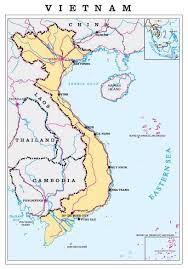Island: (131, 219, 180, 260), (129, 113, 167, 142)
